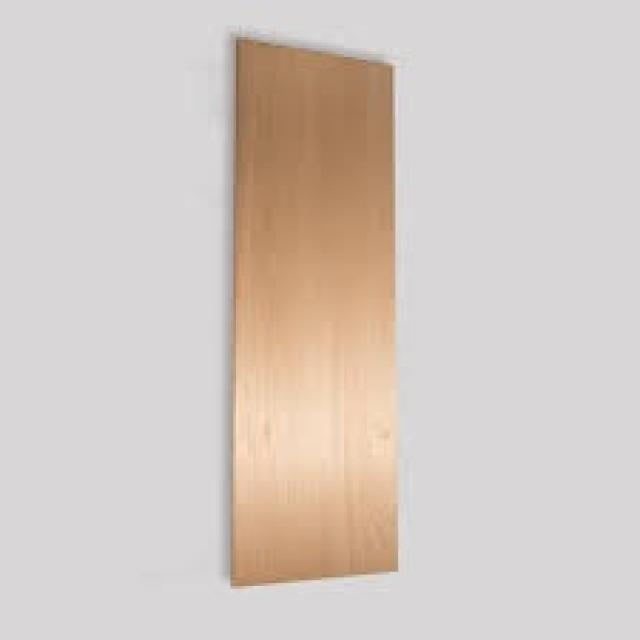door: (230, 37, 401, 589)
